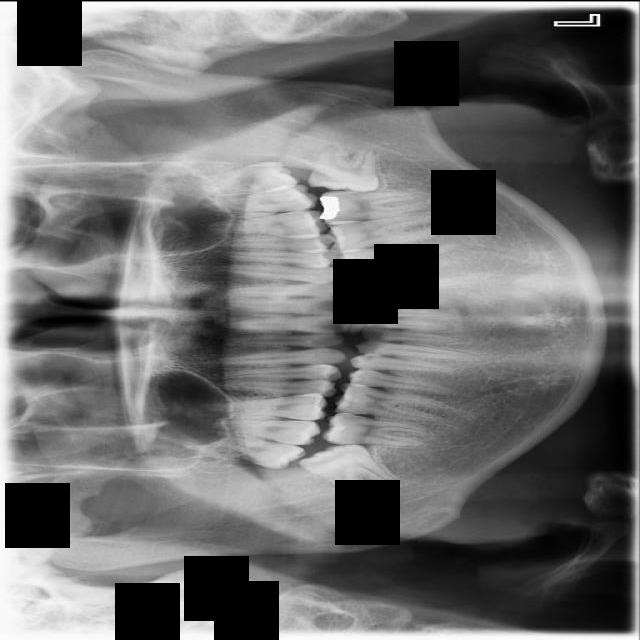3M ESPE Implant: (188, 426, 308, 473)
52: (260, 180, 319, 214), (318, 190, 363, 224), (336, 411, 369, 422), (346, 397, 361, 405), (341, 426, 347, 429)
73: (570, 32, 585, 40)
BioHorizons Implant: (192, 182, 319, 215)
BioLife Implant: (190, 157, 300, 199)
Biomet 3i Implant: (306, 142, 382, 194)
Blue Sky Bio Implant: (318, 186, 441, 224)
Caries: (200, 414, 322, 446)
Implant: (322, 411, 428, 447)
Keystone Dental Implant: (296, 420, 404, 512)
